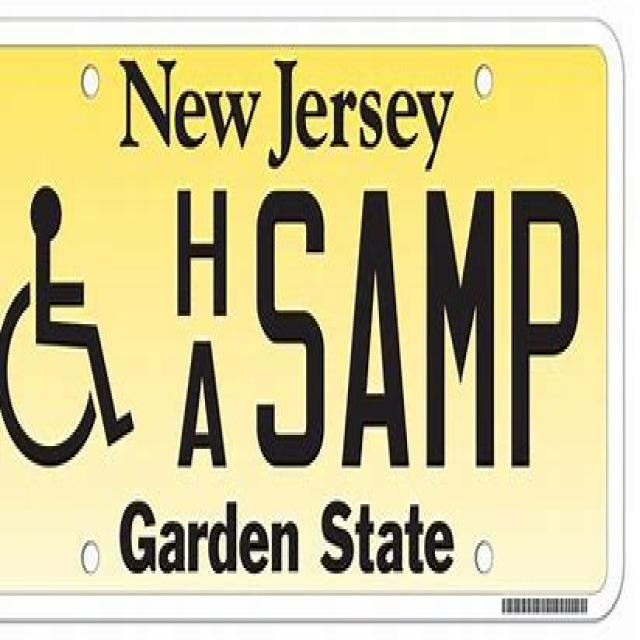car-handicap-placard: (0, 188, 141, 486)
